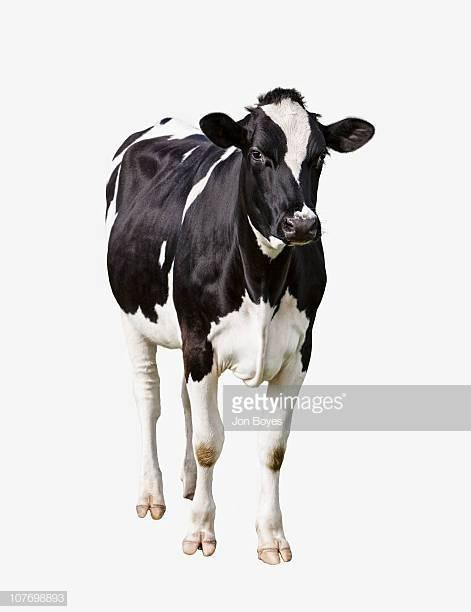muzzles: (269, 207, 325, 252)
